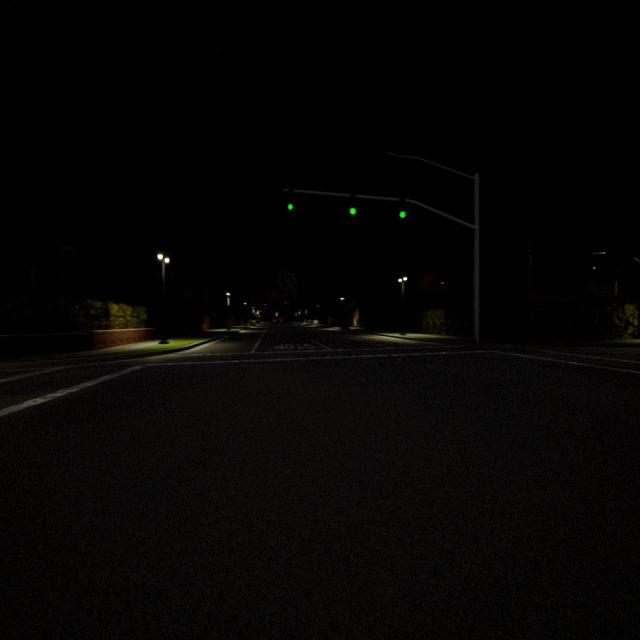traffic_light: (399, 198, 406, 218), (350, 194, 356, 216), (288, 189, 294, 210)
